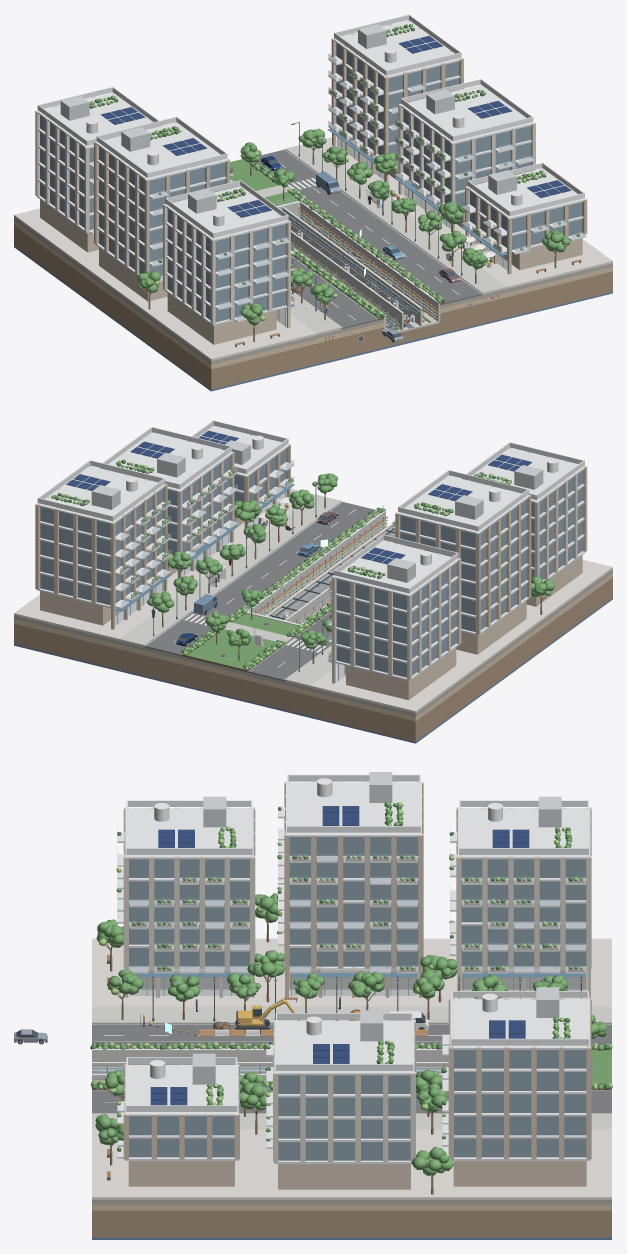
The model's file is smart_cables.glb.
3 renders of one model, top to bottom at view 1: azimuth 30°, elevation 25°; view 2: azimuth 150°, elevation 25°; view 3: azimuth 270°, elevation 25°, orthographic. The views are drawn at different scales.
Visible parts, largest first — view 1: bake-static_building, bake-static_site, vbake-static_site, glass-static_building-glass, vbake-static_building, vbake-hot-organize-cables, vbake-hot-underground-cables; view 2: bake-static_building, bake-static_site, vbake-static_site, glass-static_building-glass, vbake-static_building, vbake-hot-organize-cables; view 3: bake-static_building, bake-static_site, vbake-static_site, glass-static_building-glass, vbake-static_building.
Part boxes in pixels (x1,y1,x2,y2): bake-static_building: (35,14,587,344); bake-static_site: (14,136,612,391); vbake-static_site: (137,122,581,347); glass-static_building-glass: (92,53,585,325); vbake-static_building: (89,24,579,326); vbake-hot-organize-cables: (230,176,437,328); vbake-hot-underground-cables: (291,239,500,341); bake-static_building: (35,420,587,700); bake-static_site: (14,487,612,743); vbake-static_site: (147,473,554,671); glass-static_building-glass: (115,459,394,681); vbake-static_building: (51,459,511,680); vbake-hot-organize-cables: (253,516,395,646); bake-static_building: (117,772,591,1189); bake-static_site: (92,938,611,1239); vbake-static_site: (90,893,612,1194); glass-static_building-glass: (117,849,585,1144); vbake-static_building: (116,801,584,1151).
Size of the model in its own units: 82.46 by 32.44 by 78.34.
